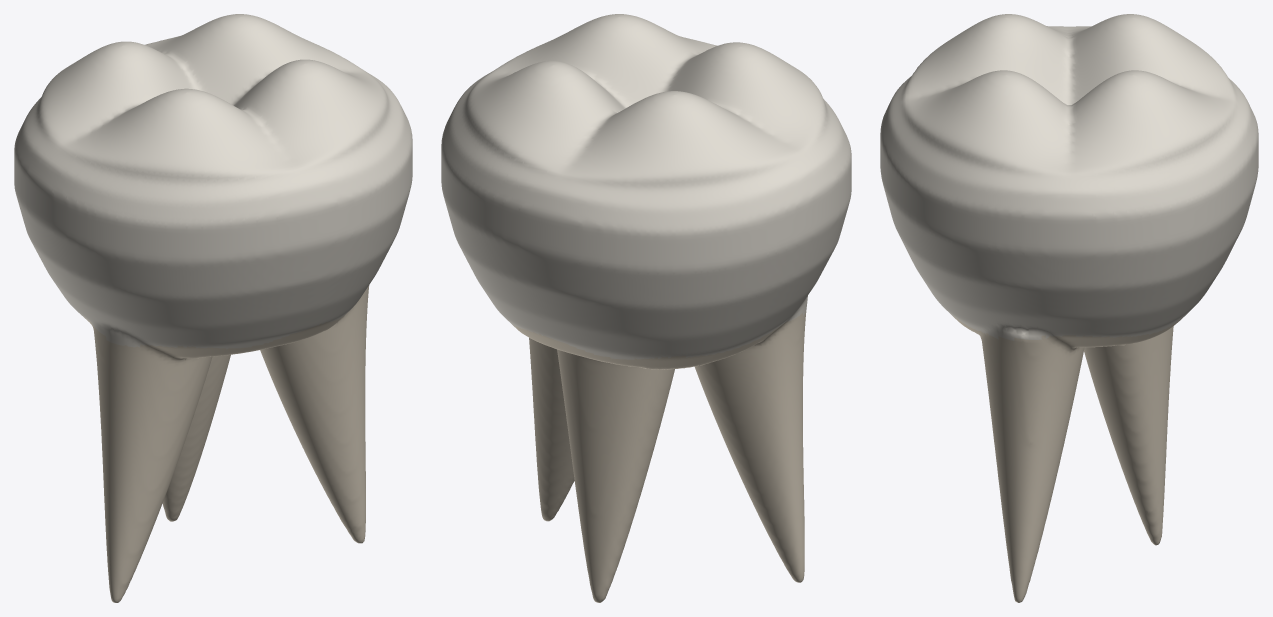
Rendered from reference-molar.glb.
The picture shows the model from 3 angles, left to right: view 1: azimuth 30°, elevation 25°; view 2: azimuth 150°, elevation 25°; view 3: azimuth 270°, elevation 25°; orthographic projection. The views are drawn at different scales.
Visible parts, largest first — view 1: Dental Expert | three-root study molar; view 2: Dental Expert | three-root study molar; view 3: Dental Expert | three-root study molar.
Part boxes in pixels (x1,y1,x2,y2): Dental Expert | three-root study molar: (14, 14, 412, 602); Dental Expert | three-root study molar: (441, 14, 851, 602); Dental Expert | three-root study molar: (880, 14, 1258, 602).
Bounding box in the file's own units: 2.08 × 2.83 × 1.95.
